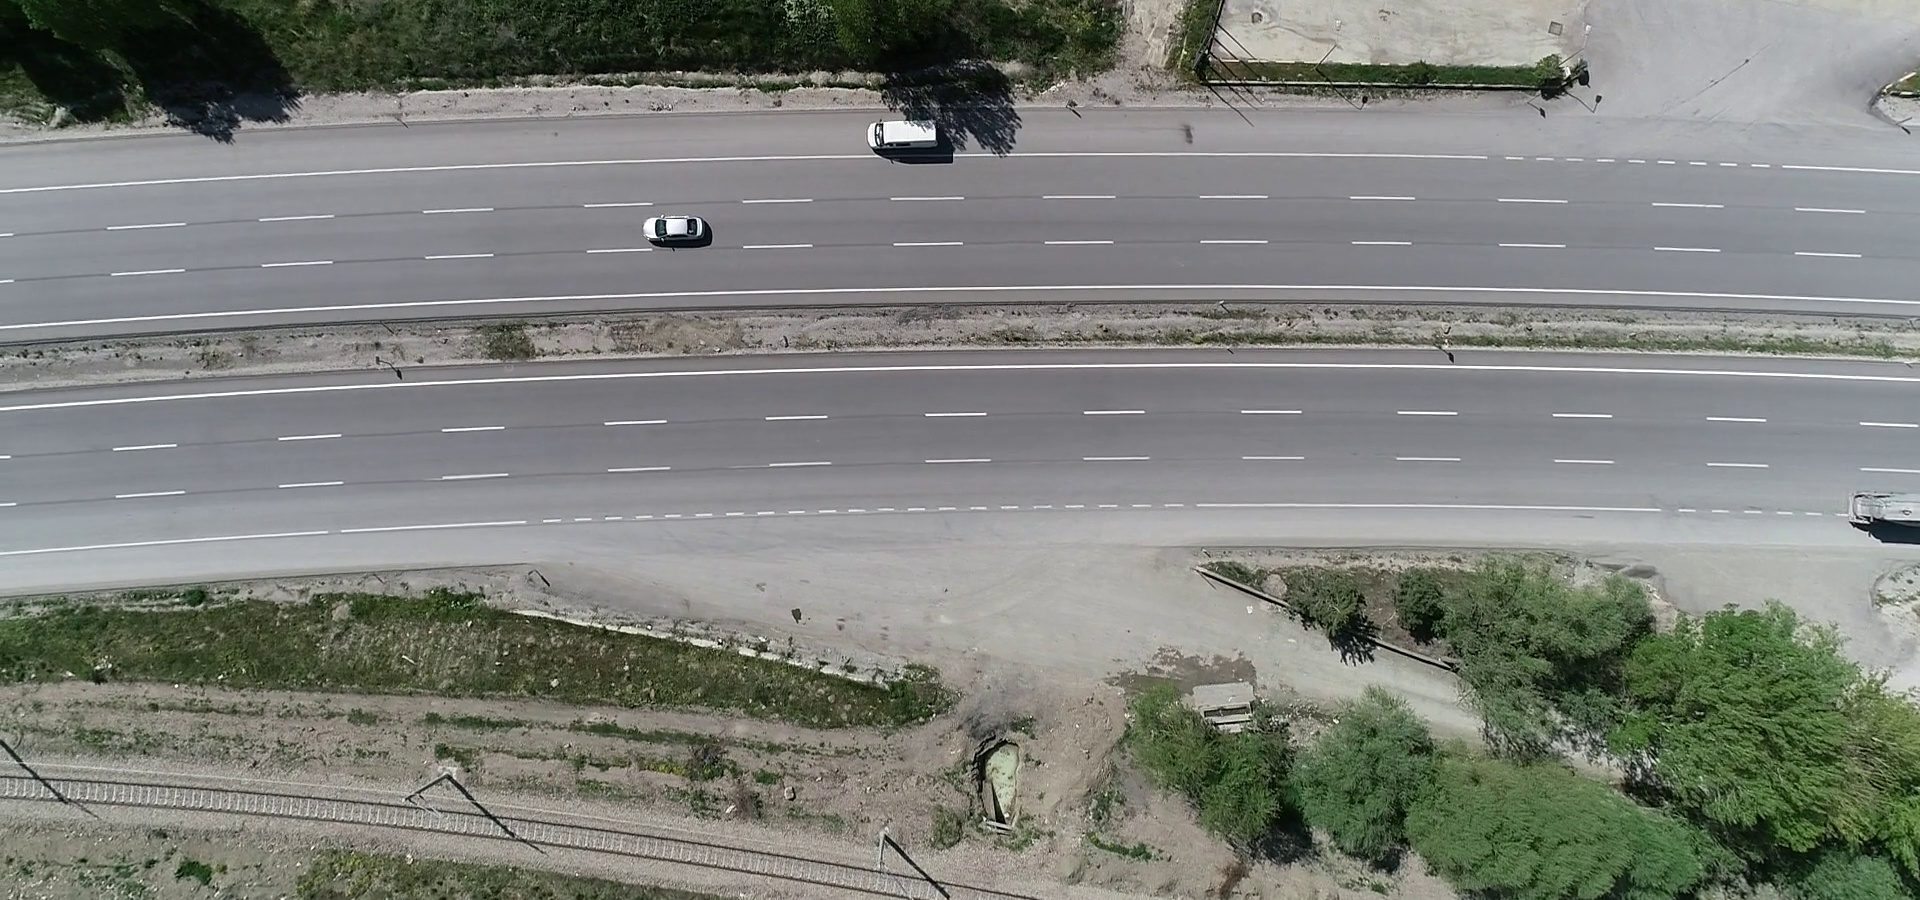arac: (869, 99, 948, 156), (642, 206, 710, 247)
